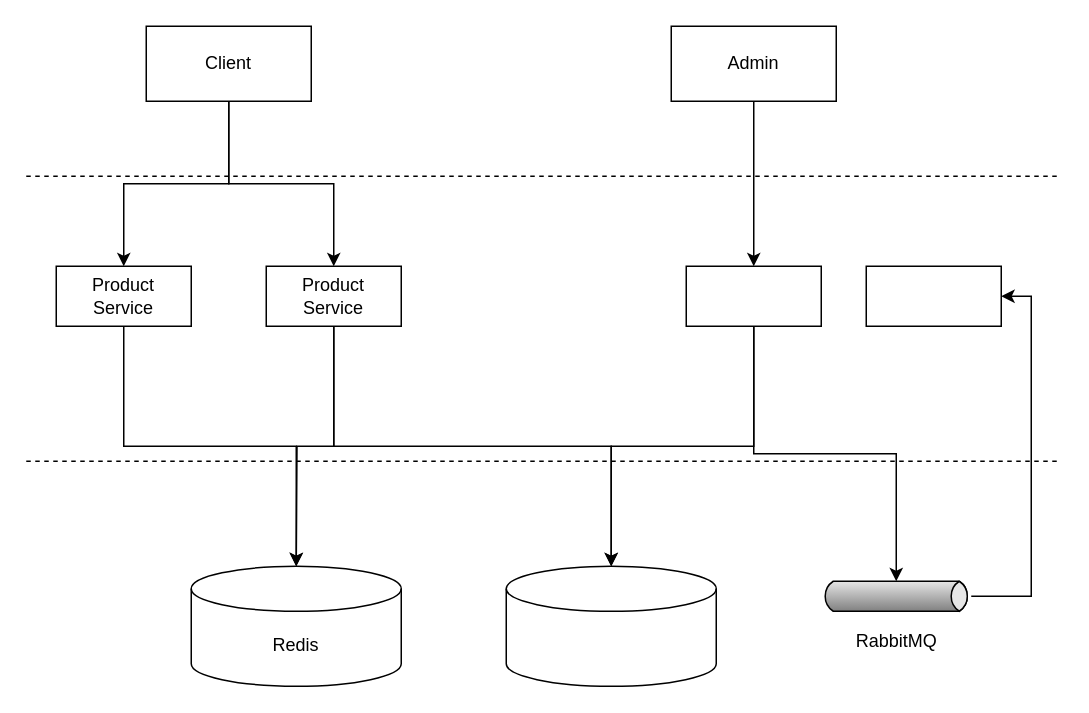
This 1089x713 diagram has some shape labels left out. The centre of each missing label's shape, as x and y in pixels:
Admin Service: [753,295]
Mail Service: [933,295]
MongoDB: [610,625]
